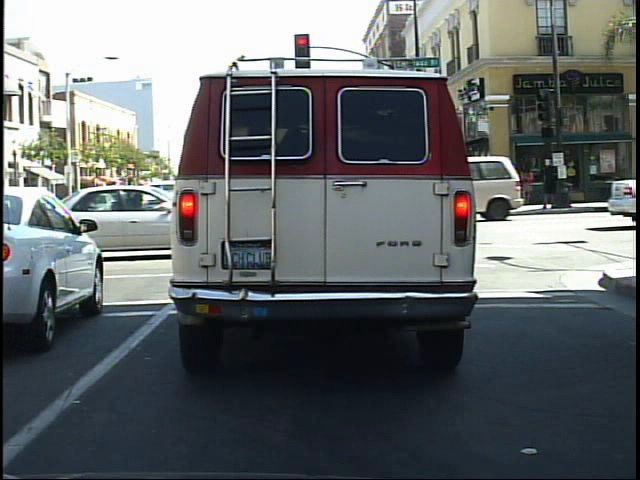person: (536, 154, 562, 214), (516, 157, 541, 215), (480, 156, 500, 214), (490, 166, 509, 213)
